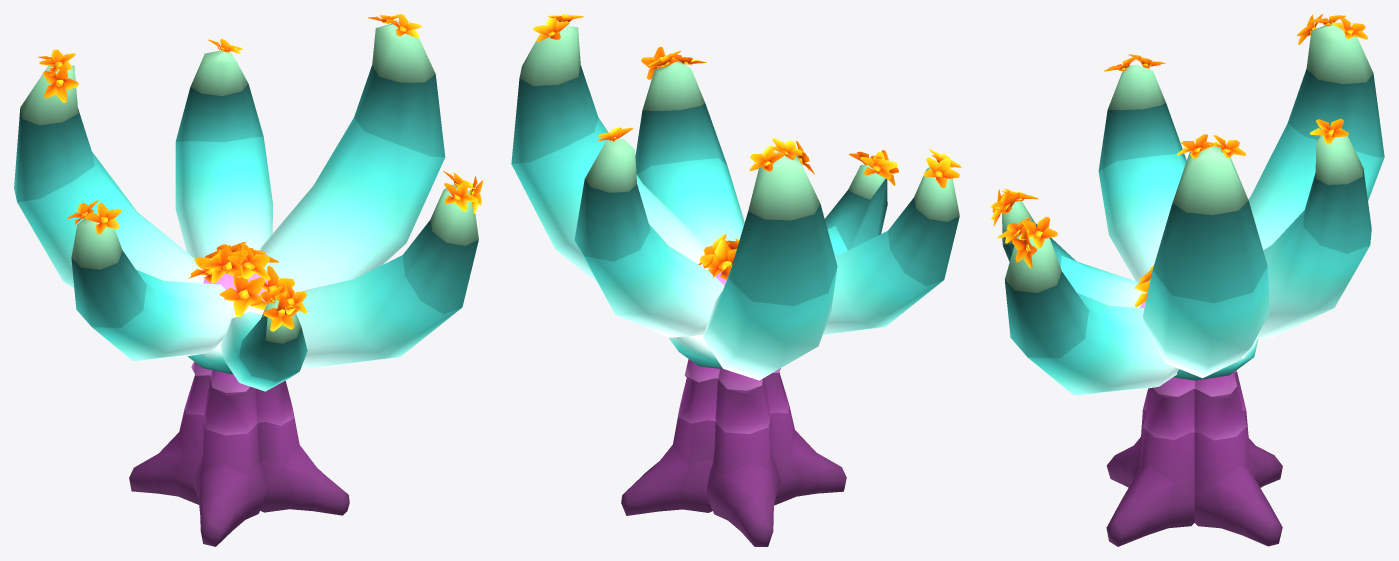
Rendered from coral_bloom.glb.
3 views of the same model, side by side, from view 1: azimuth 30°, elevation 25°; view 2: azimuth 150°, elevation 25°; view 3: azimuth 270°, elevation 25° (orthographic). The views are drawn at different scales.
Visible parts, largest first — view 1: Coral Bloom; view 2: Coral Bloom; view 3: Coral Bloom.
Part boxes in pixels (<box>): Coral Bloom: <box>14,14,482,546</box>; Coral Bloom: <box>511,14,961,546</box>; Coral Bloom: <box>990,14,1384,546</box>.
Size of the model in its own units: 1.59 by 1.68 by 1.33.
1 material, 1 textured.
